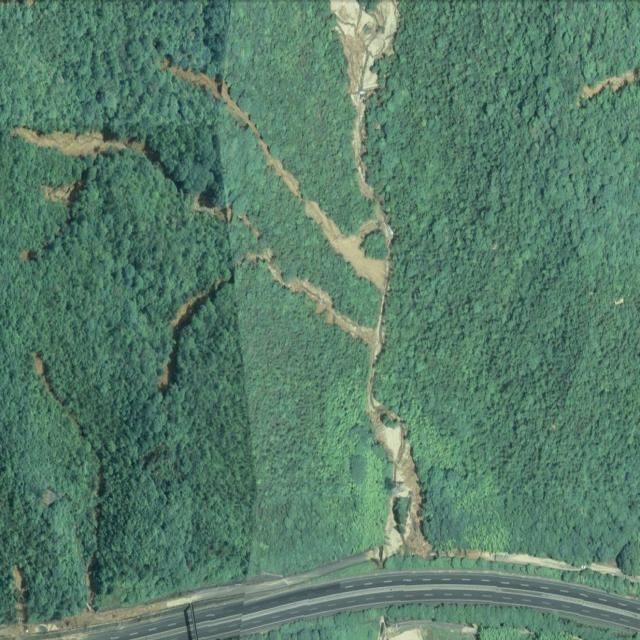landslide: (163, 0, 432, 562), (162, 282, 223, 393), (15, 127, 142, 155), (193, 194, 247, 226), (580, 73, 636, 102)
